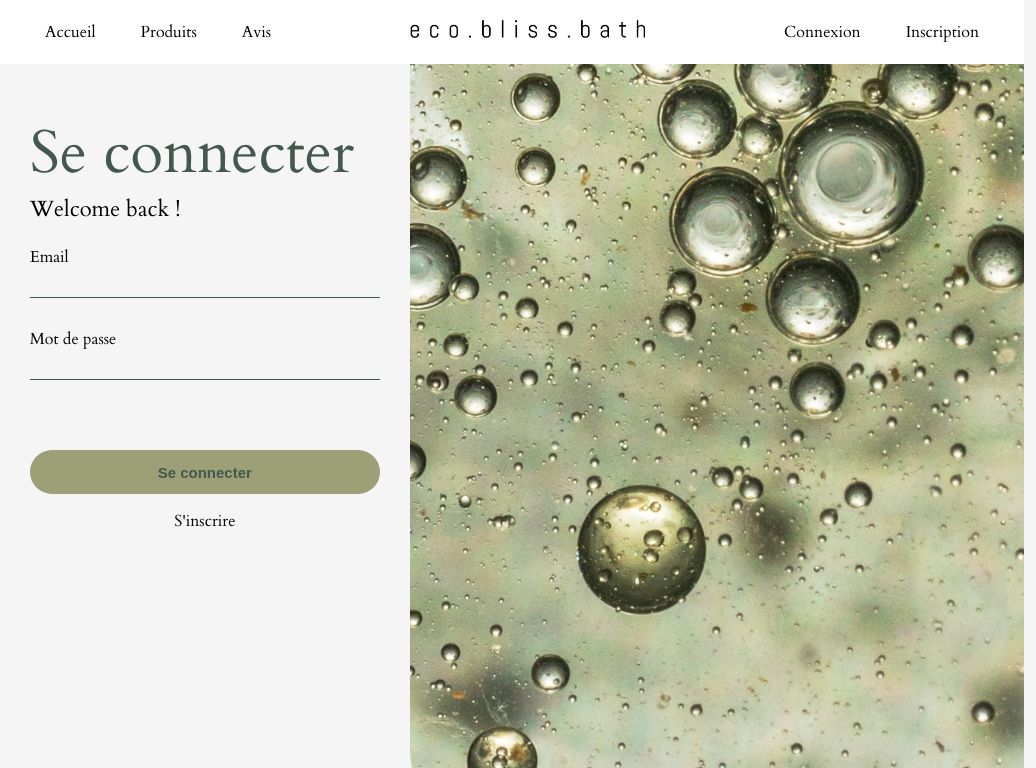
Test case: Tests de sécurité XSS sur la page de connexion › Ne doit pas exécuter une balise <script> injectée
This screenshot has width=1036, height=768.
Type "<script>alert(\"XSS\")</script>" into the field with test id "login-input-username" at {"x": 205, "y": 283}, box [30,268,380,298]
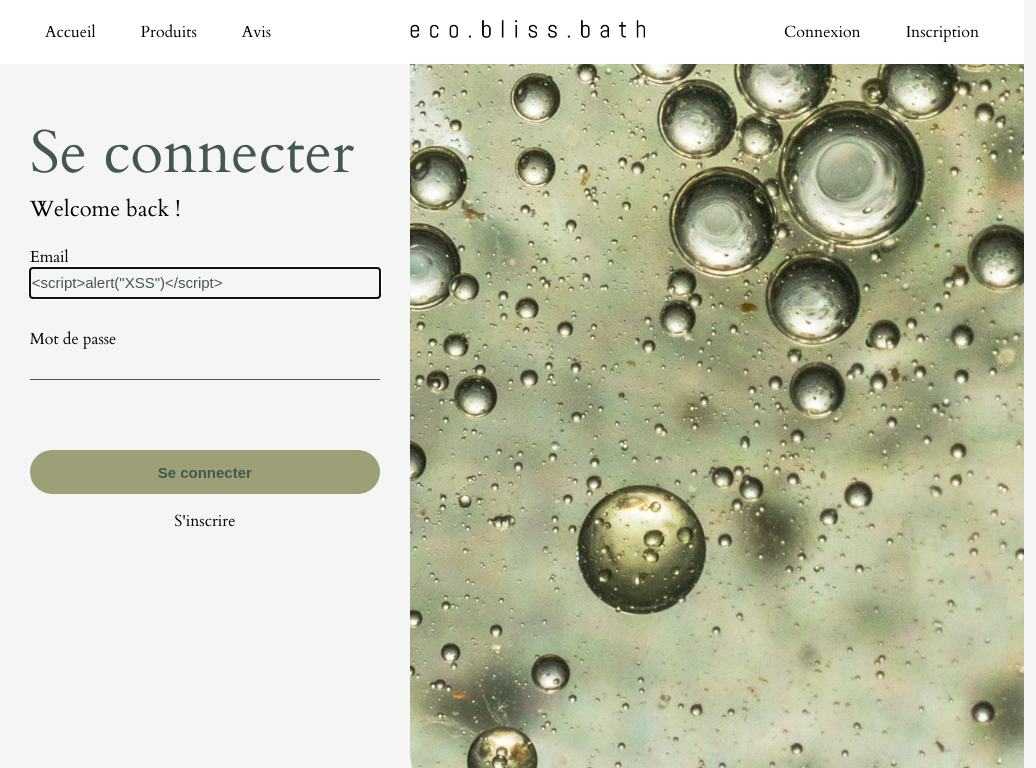
Type "testtest" into the password field with test id "login-input-password" at {"x": 205, "y": 365}, box [30,350,380,380]
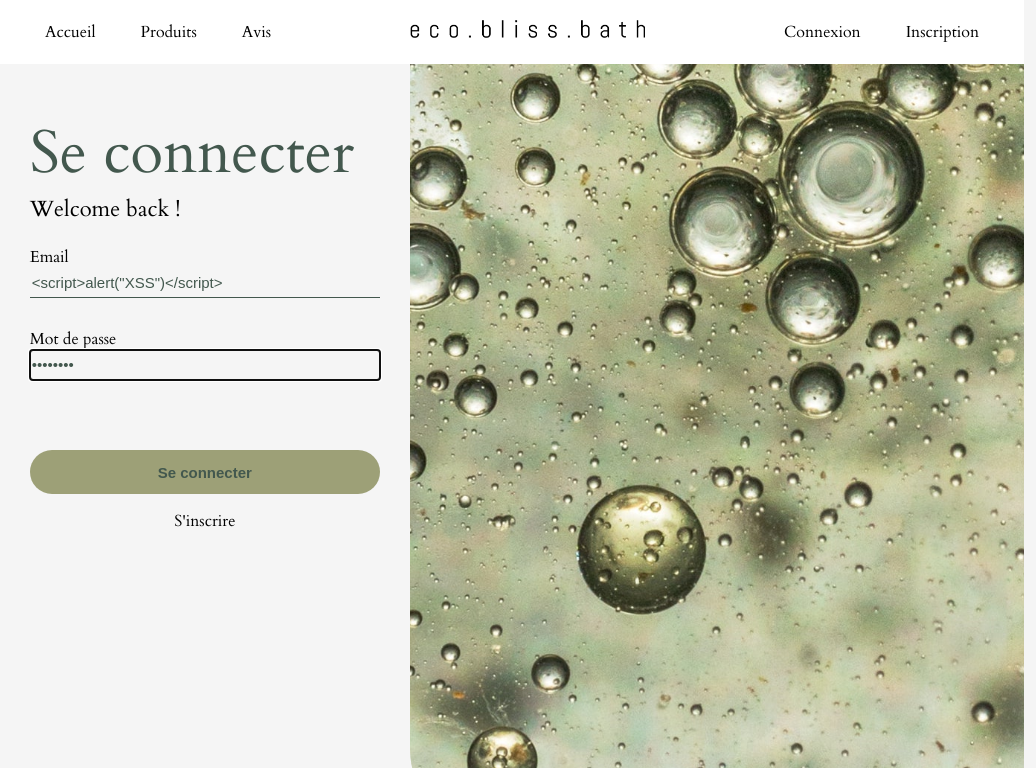
Click the button with test id "login-submit" at {"x": 205, "y": 472}, box [30,450,380,494]
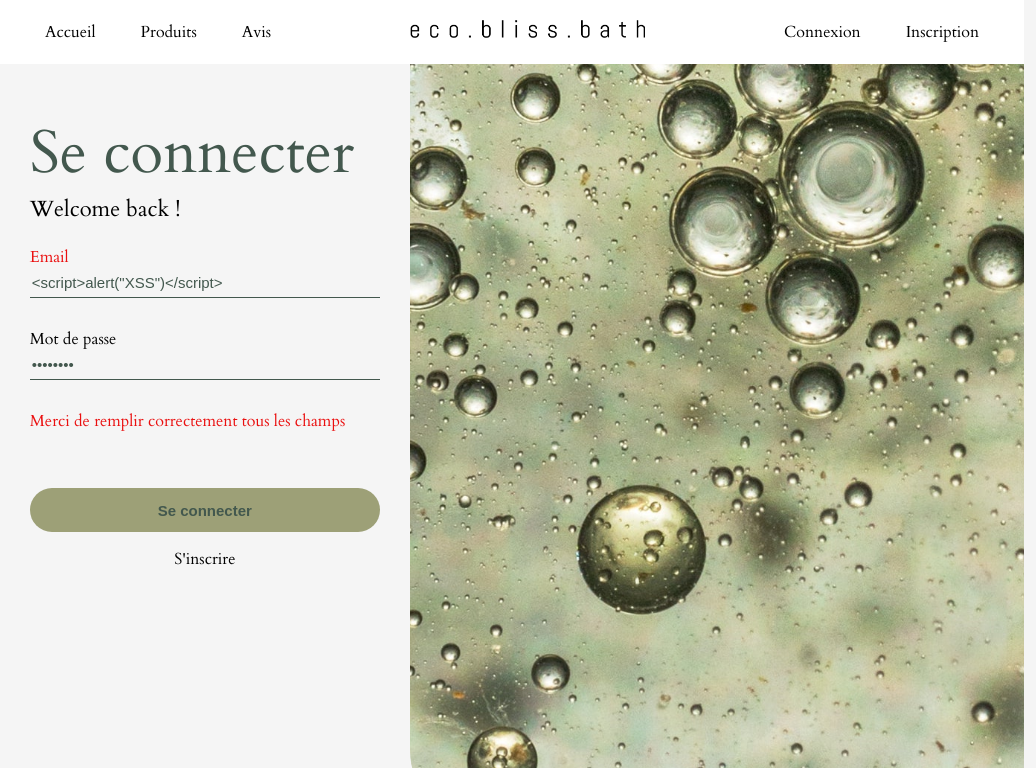
Check: the element with test id "login-errors" does not show "<script>"
Check: the text with test id "login-errors" reads "Merci de remplir correctement tous les champs", box [30,410,345,432]
